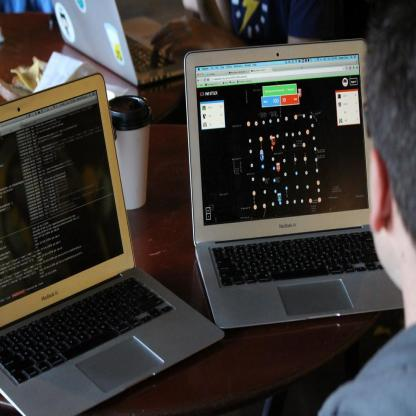board: (0, 70, 225, 415), (180, 25, 390, 346), (50, 0, 183, 86)
